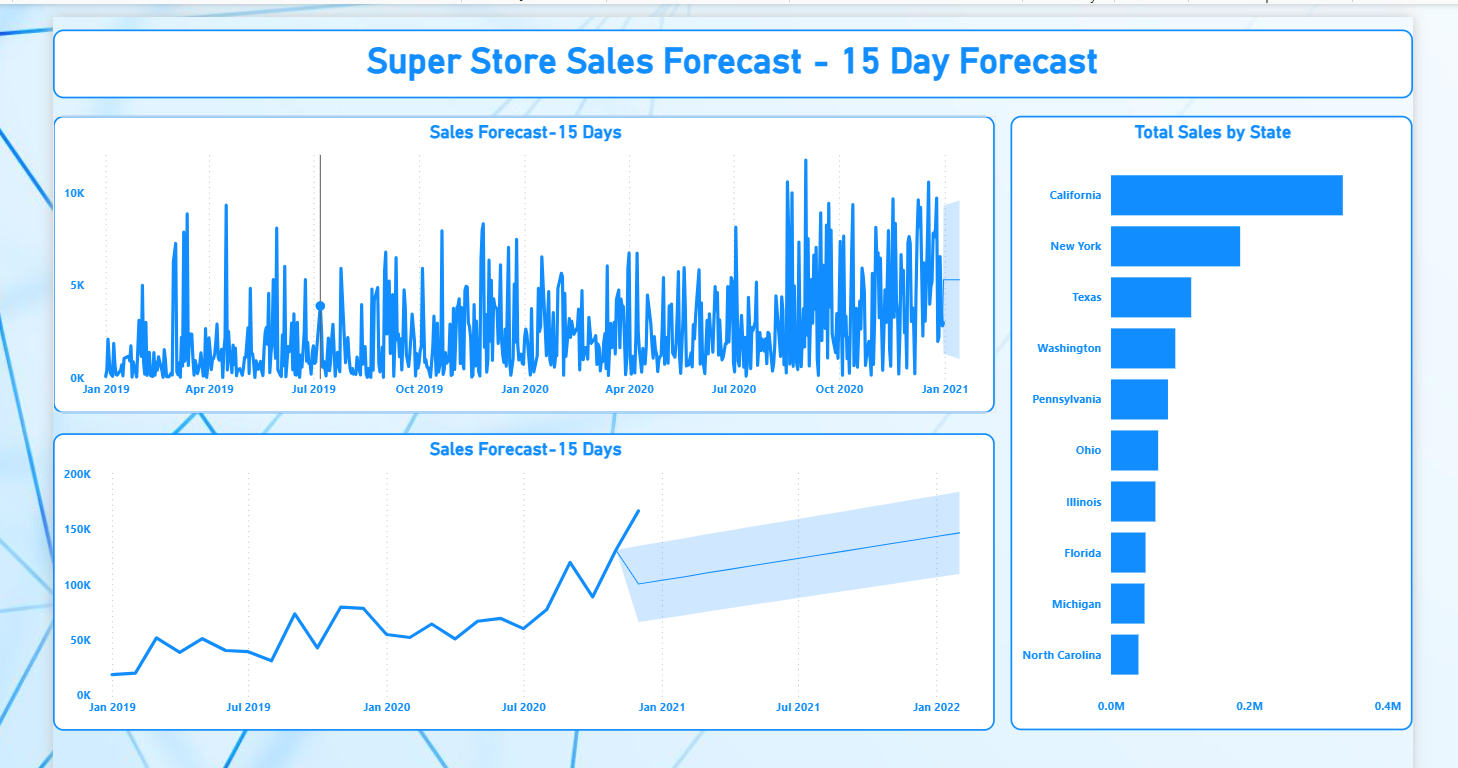

The dashboard page shown, as its layout file describes it:
{"tool":"powerbi","page":{"name":"Sales Forecast","canvas":[1280,720],"ordinal":1},"visuals":[{"type":"lineChart","title":"Sales Forecast-15 Days","fields":{"Y":["Sum(SuperStore_Sales_Dataset (2).Sales)"],"Category":["SuperStore_Sales_Dataset (2).Order Date.Variation.Date Hierarchy.Year","SuperStore_Sales_Dataset (2).Order Date.Variation.Date Hierarchy.Month","SuperStore_Sales_Dataset (2).Order Date.Variation.Date Hierarchy.Day"]},"box":[0,93.3,886.7,280],"z":0},{"type":"lineChart","title":"Sales Forecast-15 Days","fields":{"Y":["Sum(SuperStore_Sales_Dataset (2).Sales)"],"Category":["SuperStore_Sales_Dataset (2).Order Date.Variation.Date Hierarchy.Year","SuperStore_Sales_Dataset (2).Order Date.Variation.Date Hierarchy.Month"]},"box":[0,391.7,886.7,280],"z":1},{"type":"textbox","box":[0,0,1280,65],"z":3},{"type":"clusteredBarChart","title":"Total Sales by State","fields":{"Category":["SuperStore_Sales_Dataset (2).State"],"Y":["Sum(SuperStore_Sales_Dataset (2).Sales)"]},"box":[901.7,93.3,378.3,578.3],"z":4}]}

Visuals, with their boxes in screenshot pixels (x1, y1, x2, y2):
"Sales Forecast-15 Days" lineChart: box=[61, 121, 992, 415]
"Sales Forecast-15 Days" lineChart: box=[61, 434, 992, 728]
textbox: box=[61, 23, 1405, 91]
"Total Sales by State" clusteredBarChart: box=[1008, 121, 1405, 728]
